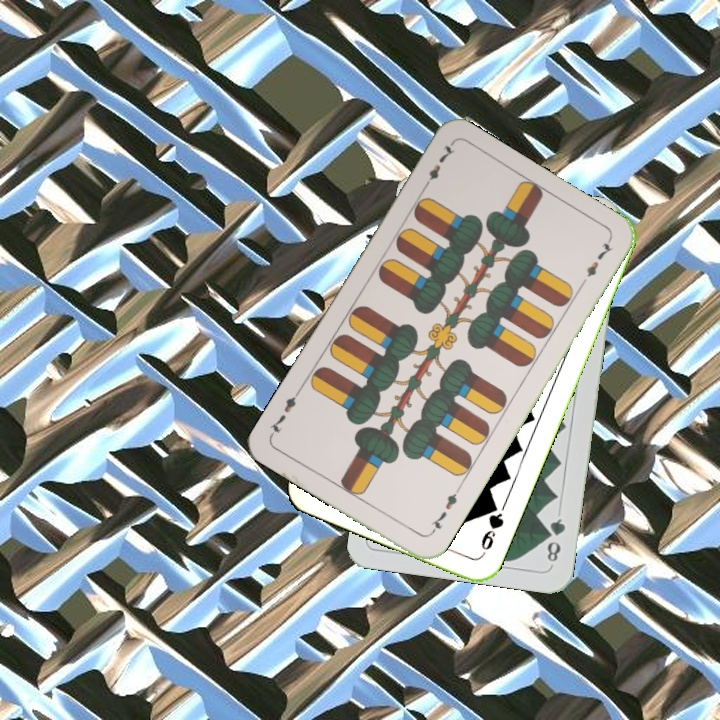E7: (418, 139, 458, 193), (425, 485, 462, 538)
G8: (542, 514, 568, 565)
G9: (476, 499, 507, 559)
